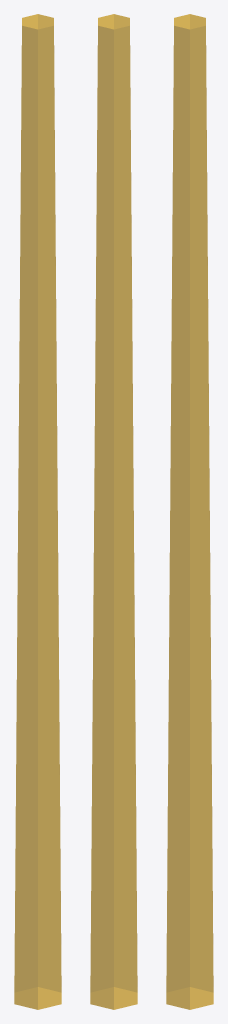
File: SM_Veh_Ship_M_Mast_Front_01_Collision.fbx
3 views of the same model, side by side, from view 1: azimuth 90°, elevation 25°; view 2: azimuth 150°, elevation 25°; view 3: azimuth 330°, elevation 25° (orthographic).
Visible parts, largest first — view 1: SM_Veh_Ship_M_Mast_Front_01_Collision; view 2: SM_Veh_Ship_M_Mast_Front_01_Collision; view 3: SM_Veh_Ship_M_Mast_Front_01_Collision.
Boxes of the visible parts, x1,y1,x2,y2 form: SM_Veh_Ship_M_Mast_Front_01_Collision: [14, 14, 61, 1009]; SM_Veh_Ship_M_Mast_Front_01_Collision: [90, 14, 137, 1009]; SM_Veh_Ship_M_Mast_Front_01_Collision: [166, 14, 213, 1009].
Size of the model in its own units: 116 by 2296 by 101.
